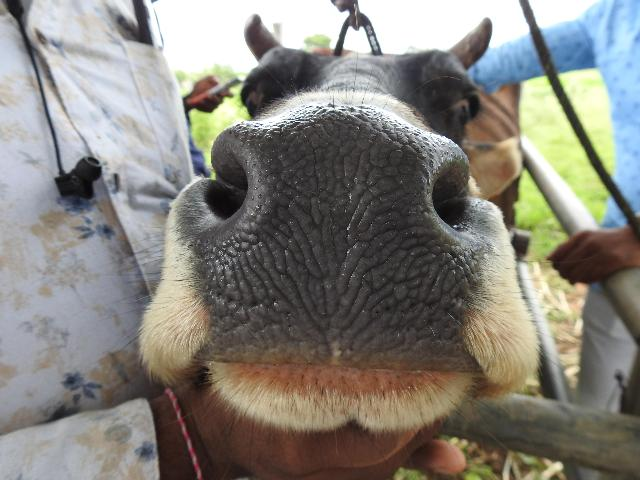Muzzle: (231, 126, 435, 362)
